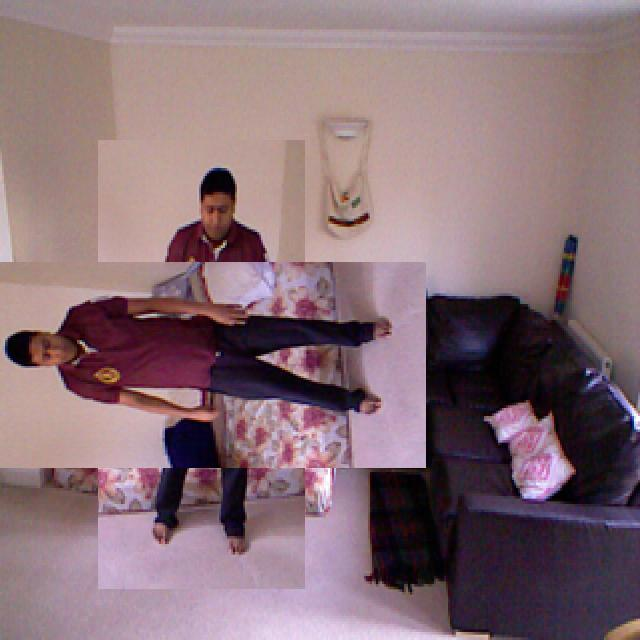NotFall: (1, 286, 413, 450)
